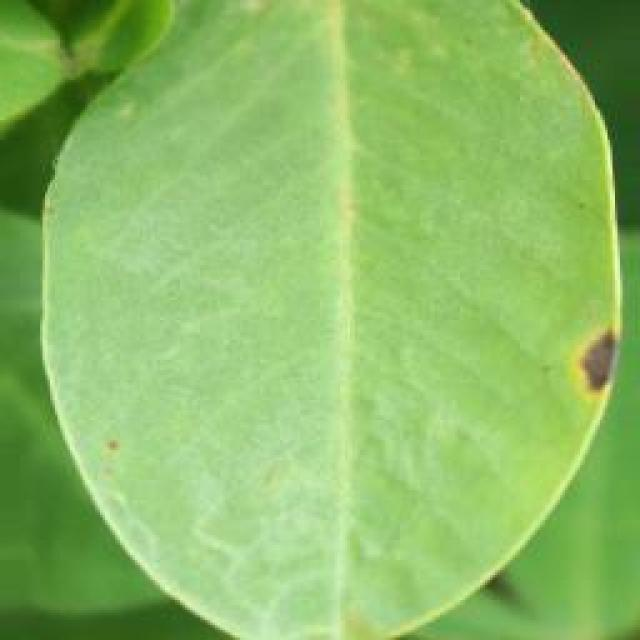Sigatoka: (553, 314, 640, 398), (98, 426, 170, 498)
